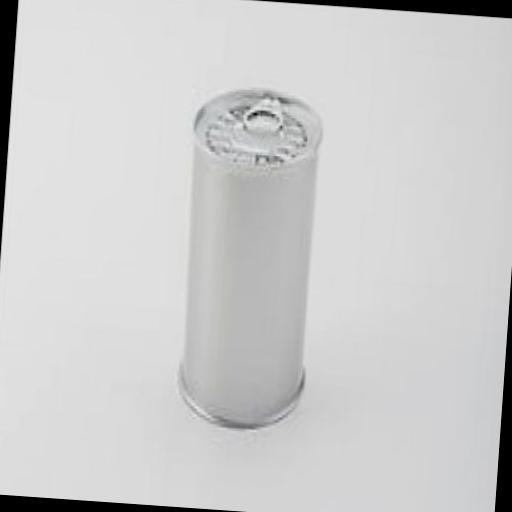metal: (170, 79, 324, 432)
